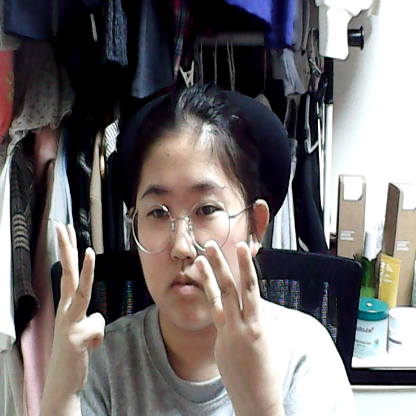Finger_3: (27, 212, 126, 389), (185, 238, 289, 403)
